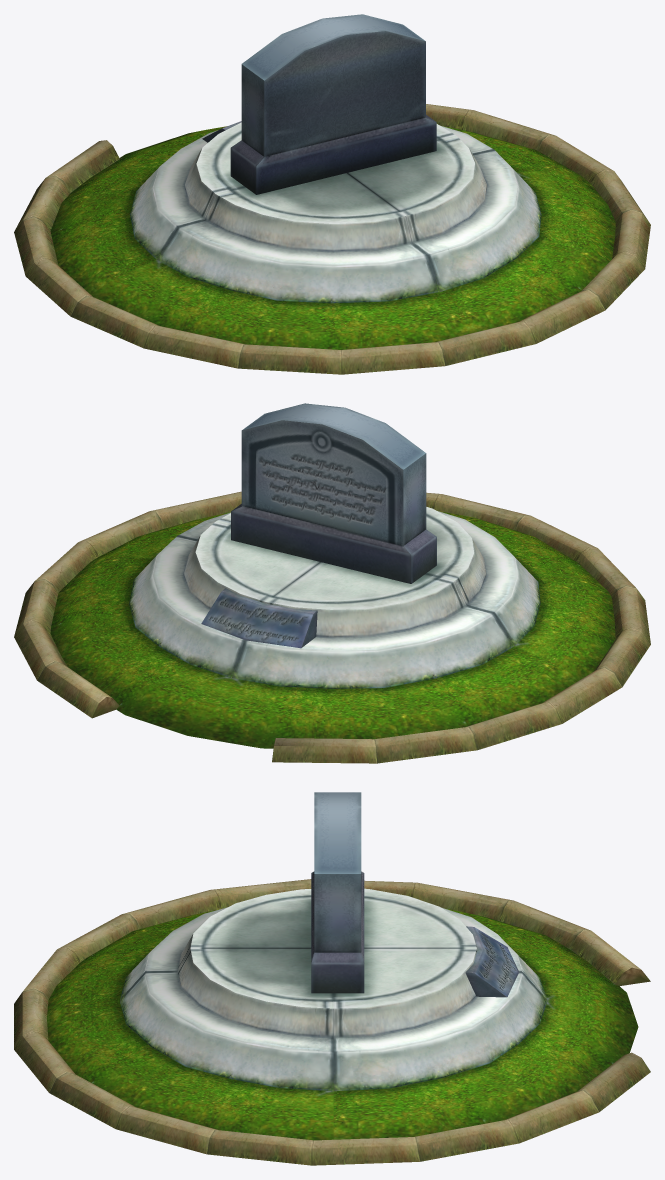
Rendered from a_SWTgen02.glb.
3 views of the same model, one above another, from view 1: azimuth 30°, elevation 25°; view 2: azimuth 150°, elevation 25°; view 3: azimuth 270°, elevation 25° (orthographic). The views are drawn at different scales.
Parts seen in each view (by area): view 1: a_SWTgen02; view 2: a_SWTgen02; view 3: a_SWTgen02.
Boxes of the visible parts, x1=… form: a_SWTgen02: x1=14, y1=14, x2=650, y2=374; a_SWTgen02: x1=14, y1=403, x2=650, y2=763; a_SWTgen02: x1=14, y1=792, x2=650, y2=1165.
Size of the model in its own units: 3.99 by 1.48 by 3.87.
Materials: 2 (2 with a texture image).
